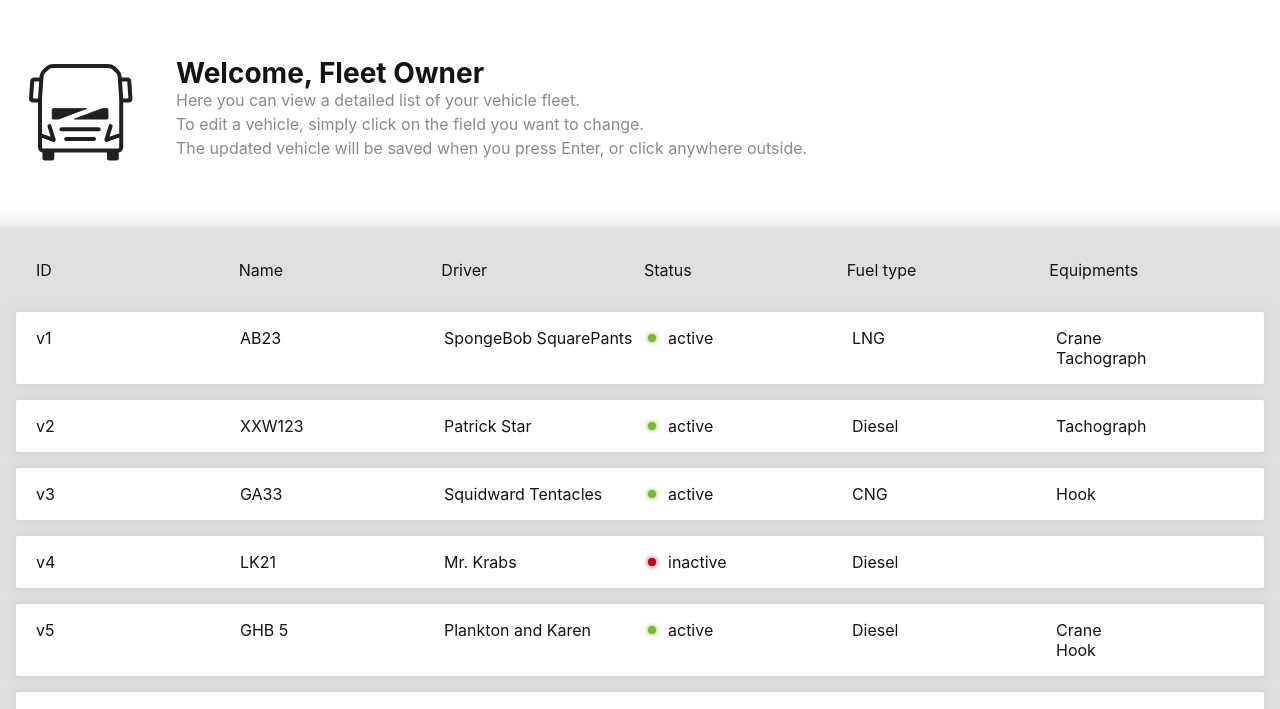
Page interactivity works as expected › clears the input value on pressing escape
This screenshot has width=1280, height=709.
Click the text "AB23" at (261, 338), box [240, 328, 281, 348]
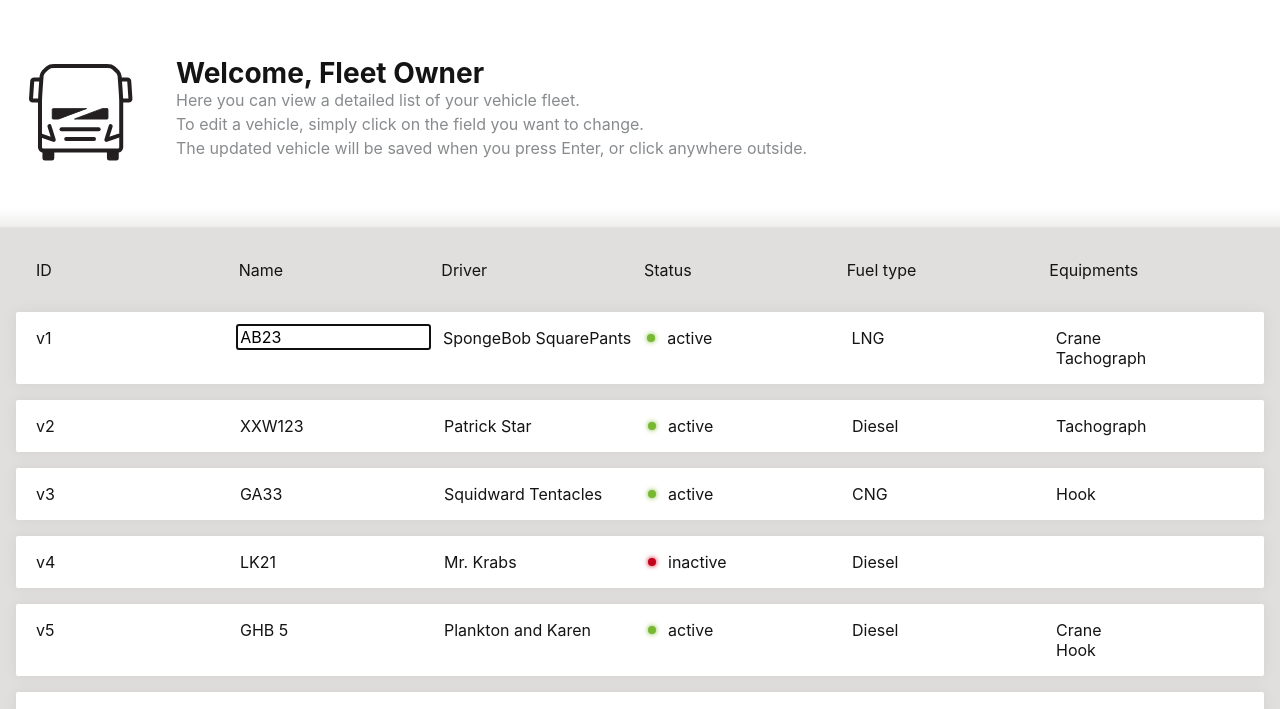
Expected: the field with test id "VehicleTableCell-input" holds "AB23"
Type "YYY333" into the field with test id "VehicleTableCell-input" at (334, 337), box [236, 324, 431, 350]
Then press Esc
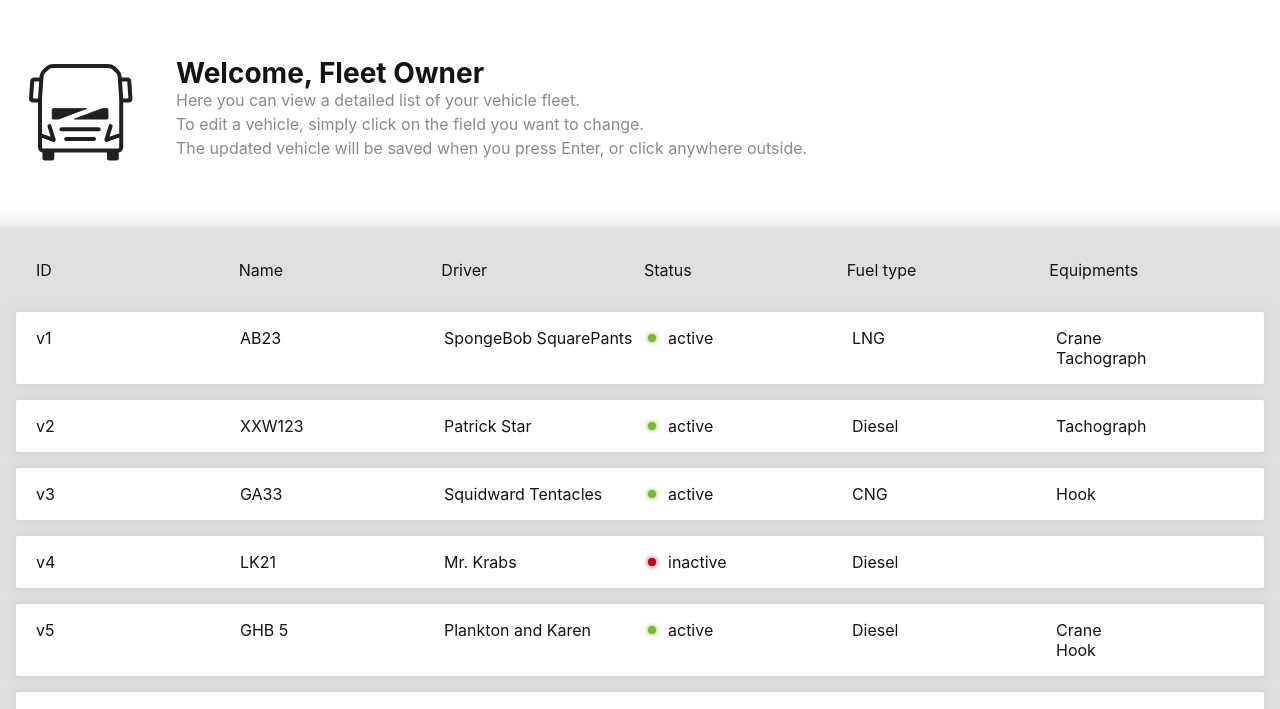
Expected: the text "AB23" is shown, [240, 328, 281, 348]
